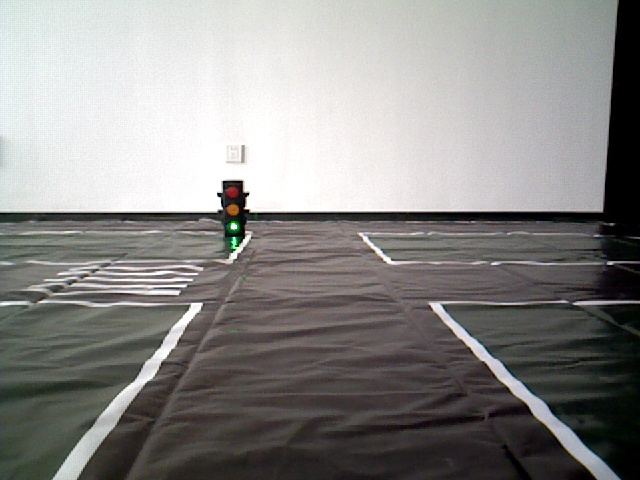green: (219, 184, 248, 237)
